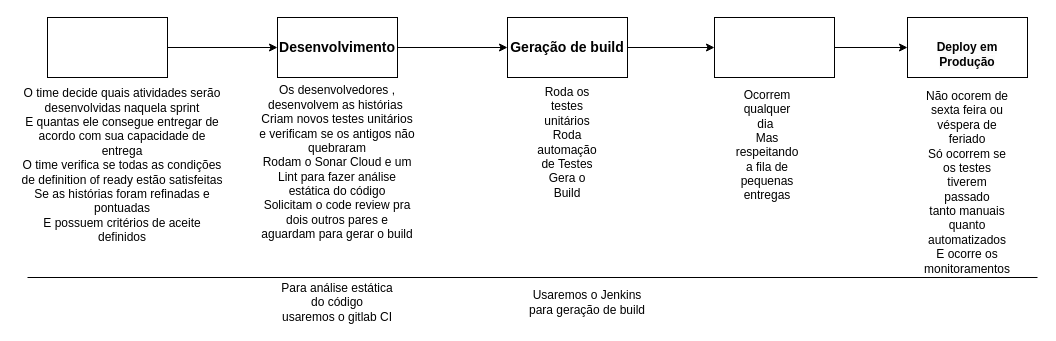
This 1056x341 diagram has some shape labels left out. Each missing label, with the centre of its shape:
"Deploy em Homologação" belongs at (x=774, y=47).
"Planejamento" belongs at (x=107, y=47).
